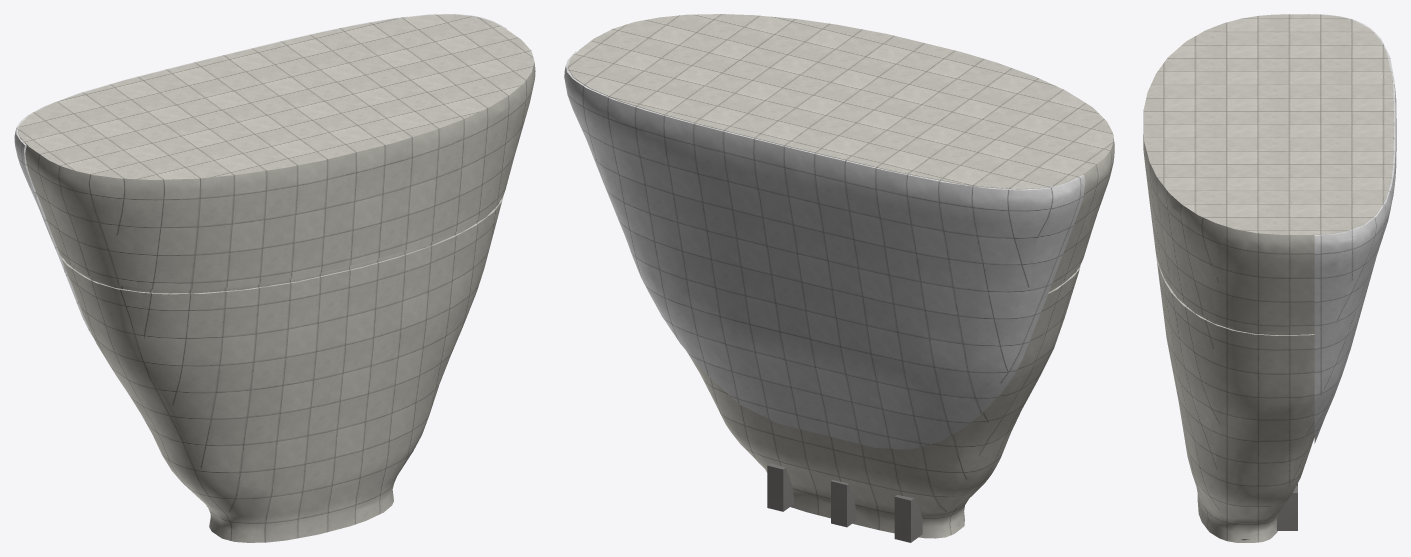
Rendered from ax_aero_16_fstc_tail_cone_mk2.glb.
The picture shows the model from 3 angles, left to right: view 1: azimuth 30°, elevation 25°; view 2: azimuth 150°, elevation 25°; view 3: azimuth 270°, elevation 25°; orthographic projection. The views are drawn at different scales.
Visible parts, largest first — view 1: tail_cone, belly_tiles; view 2: belly_tiles, tail_cone, bodyflap_hinge_mount; view 3: tail_cone, belly_tiles, bodyflap_hinge_mount.
Part boxes in pixels (x1,y1,x2,y2): tail_cone: [18, 14, 535, 542]; belly_tiles: [14, 14, 506, 337]; belly_tiles: [564, 51, 1085, 449]; tail_cone: [568, 14, 1114, 538]; bodyflap_hinge_mount: [767, 463, 922, 542]; tail_cone: [1143, 14, 1394, 542]; belly_tiles: [1314, 14, 1396, 443]; bodyflap_hinge_mount: [1277, 483, 1297, 530].
Size of the model in its own units: 2.53 by 2 by 1.21.
3 materials, 3 textured.
